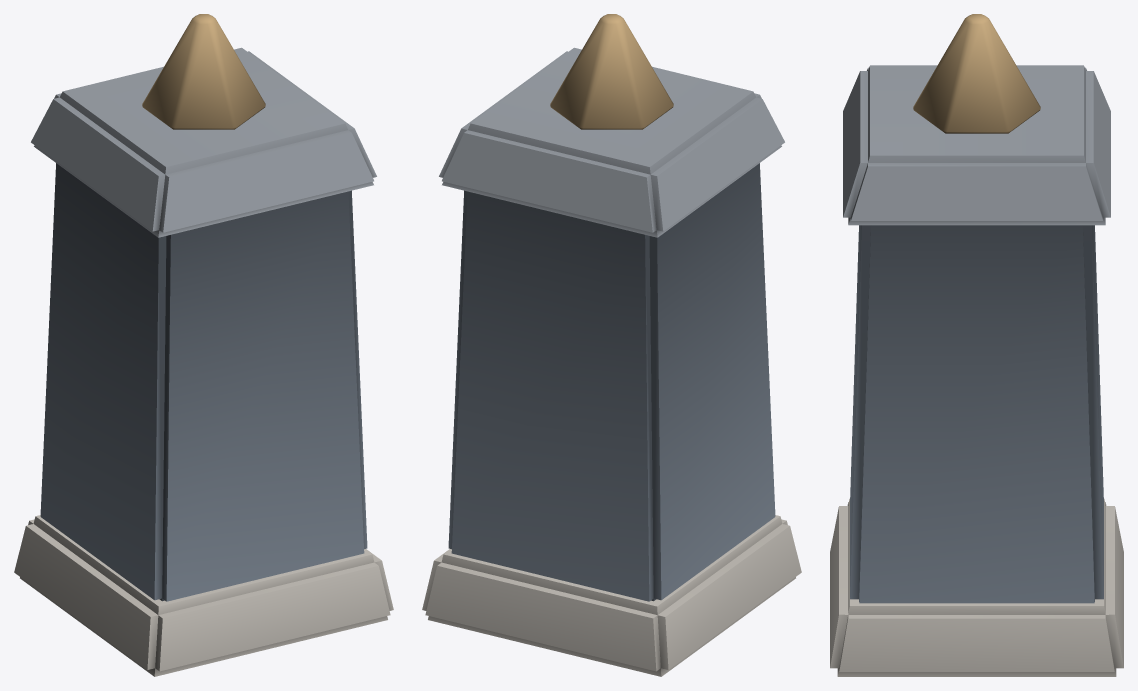
Rendered from wall_lv2_pillar_lod0.glb.
The picture shows the model from 3 angles, left to right: view 1: azimuth 30°, elevation 25°; view 2: azimuth 150°, elevation 25°; view 3: azimuth 270°, elevation 25°; orthographic projection. The views are drawn at different scales.
Parts seen in each view (by area): view 1: wall_lv2_pillar; view 2: wall_lv2_pillar; view 3: wall_lv2_pillar.
Part boxes in pixels (x1,y1,x2,y2): wall_lv2_pillar: (14,14,393,676); wall_lv2_pillar: (422,14,801,676); wall_lv2_pillar: (830,14,1123,676).
Size of the model in its own units: 0.9703 by 2.19 by 0.9703.
